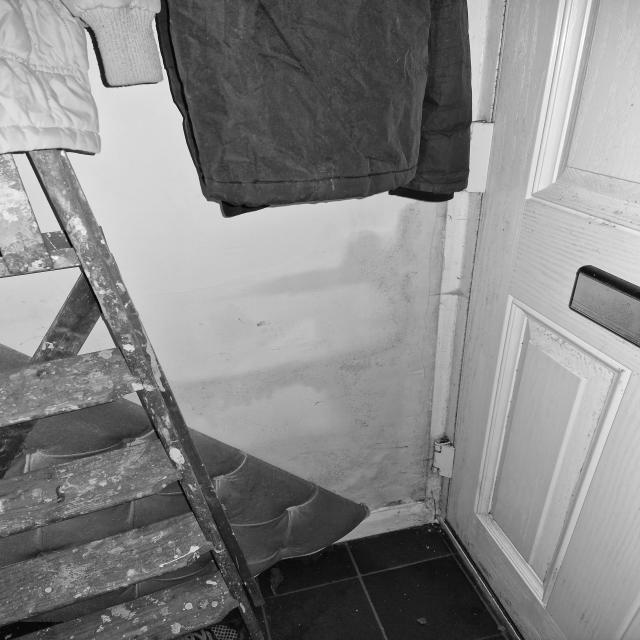stain marks: (180, 200, 438, 515)
